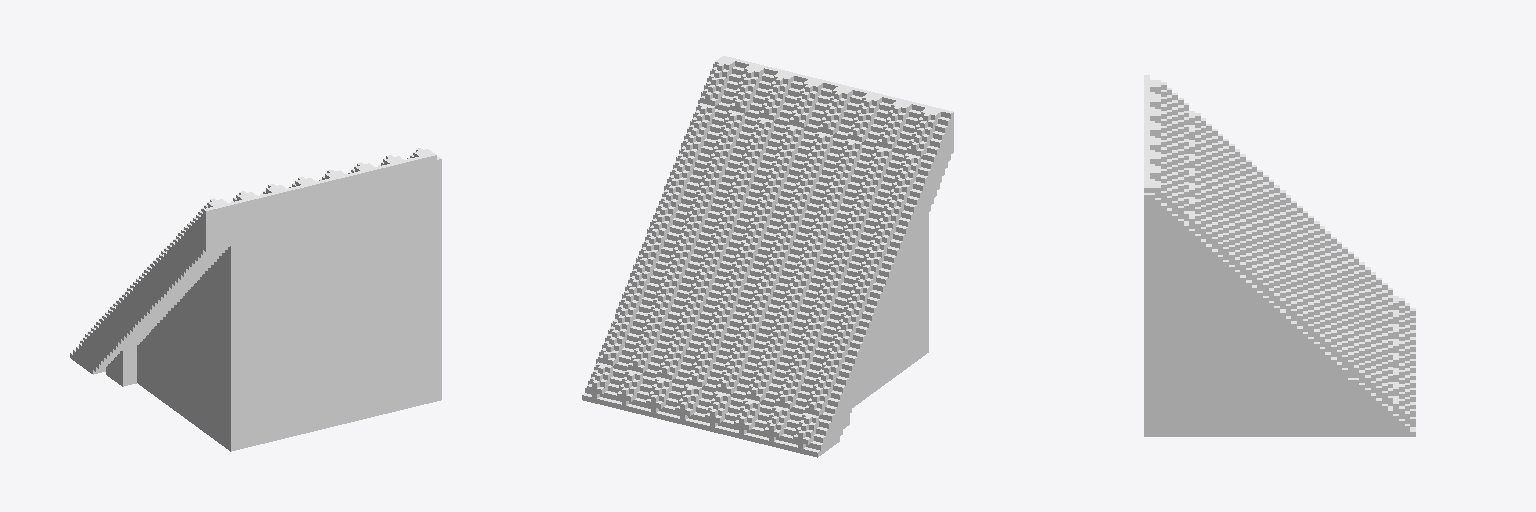
Rendered from viridian-house-1-18.obj.
3 views of the same model, side by side, from view 1: azimuth 30°, elevation 25°; view 2: azimuth 150°, elevation 25°; view 3: azimuth 270°, elevation 25° (orthographic).
Visible parts, largest first — view 1: object 1; view 2: object 1; view 3: object 1.
Boxes of the visible parts, box(x1,y1,x2,y2) form: object 1: box(70, 148, 441, 451); object 1: box(582, 56, 953, 457); object 1: box(1144, 75, 1415, 436).
Bounding box in the file's own units: 4.8 × 4.8 × 4.8.